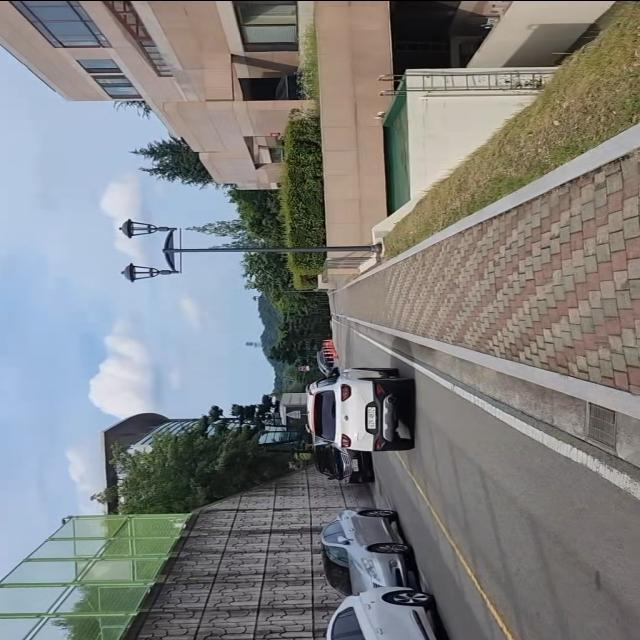obstacle: (292, 363, 420, 459), (304, 503, 426, 594), (319, 579, 460, 640)
road: (332, 319, 640, 640)
sidewalk: (335, 120, 640, 412)
